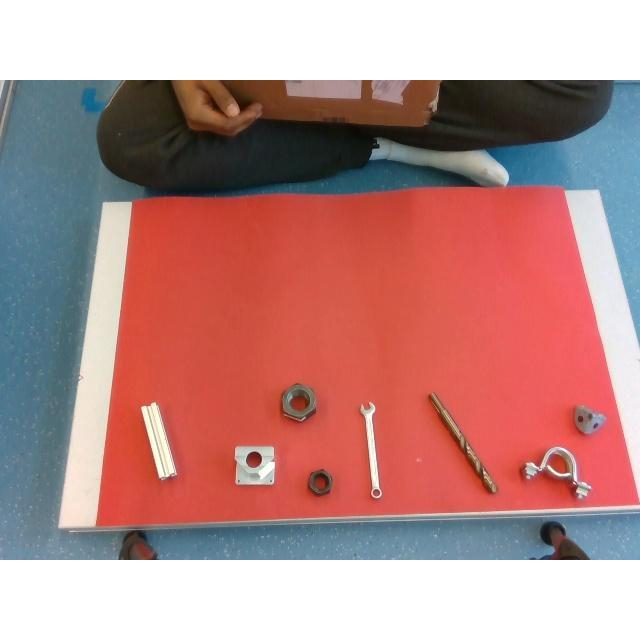Drill: (429, 392, 497, 492)
F20_20_G: (140, 401, 176, 479)
Housing: (522, 446, 590, 498)
M20: (307, 469, 333, 495)
M30: (280, 384, 316, 421)
